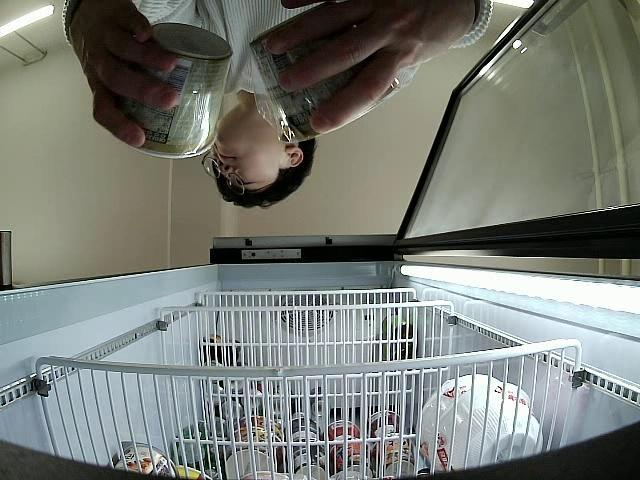04_chapagetti_S: (249, 8, 398, 141), (146, 25, 234, 160)
